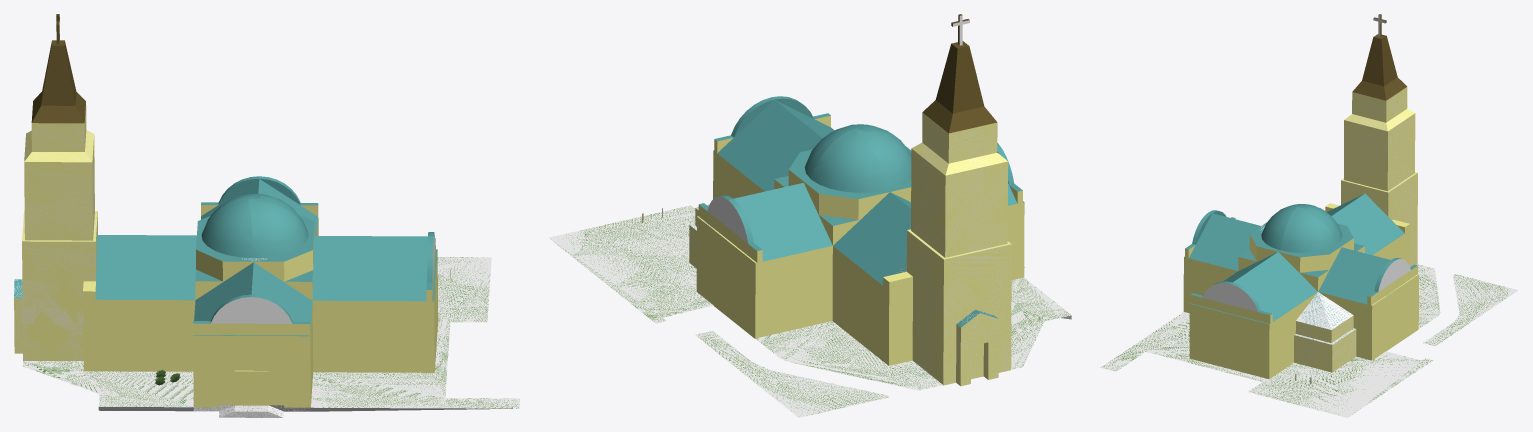
The model's file is Church.dae.
3 views of the same model, side by side, from view 1: azimuth 30°, elevation 25°; view 2: azimuth 150°, elevation 25°; view 3: azimuth 270°, elevation 25° (orthographic). The views are drawn at different scales.
Visible parts, largest first — view 1: SketchUp (×17); view 2: SketchUp (×15); view 3: SketchUp (×17).
Part boxes in pixels (box(x1,y1,x2,y2)): SketchUp (×17): box(14, 40, 519, 417); SketchUp (×15): box(548, 41, 1071, 417); SketchUp (×17): box(1100, 34, 1518, 417).
Bounding box in the file's own units: 3165 × 3270 × 2201.
